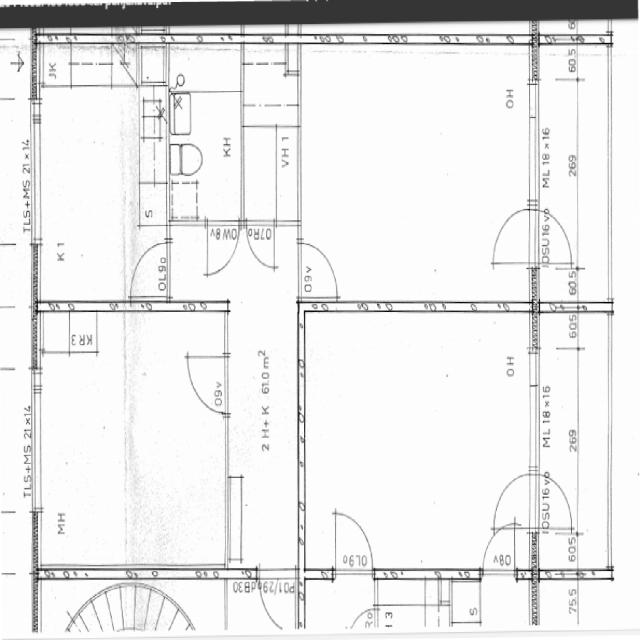door: (486, 198, 534, 273), (332, 508, 374, 583), (491, 466, 534, 532), (299, 235, 341, 302), (130, 235, 170, 302), (186, 350, 229, 412), (535, 209, 575, 269), (538, 474, 576, 536), (480, 521, 518, 580), (258, 572, 295, 632), (204, 217, 240, 278), (245, 220, 278, 273)
window: (523, 357, 545, 474), (524, 81, 544, 206), (28, 99, 44, 248), (28, 370, 44, 512)
zone: (301, 48, 531, 309), (311, 312, 528, 584), (37, 70, 130, 308), (171, 53, 242, 221), (241, 45, 299, 228), (0, 368, 33, 508), (167, 46, 242, 92), (25, 96, 42, 245), (538, 475, 577, 533), (537, 528, 579, 578), (139, 181, 168, 227)
